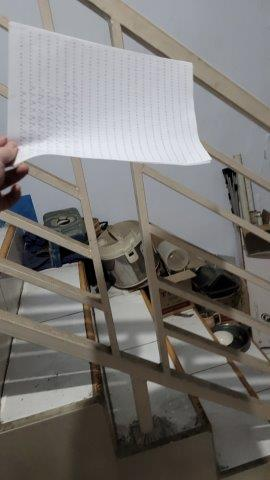kertas: (8, 19, 213, 180)
